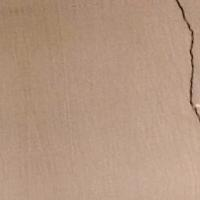crack: (148, 0, 199, 120)
